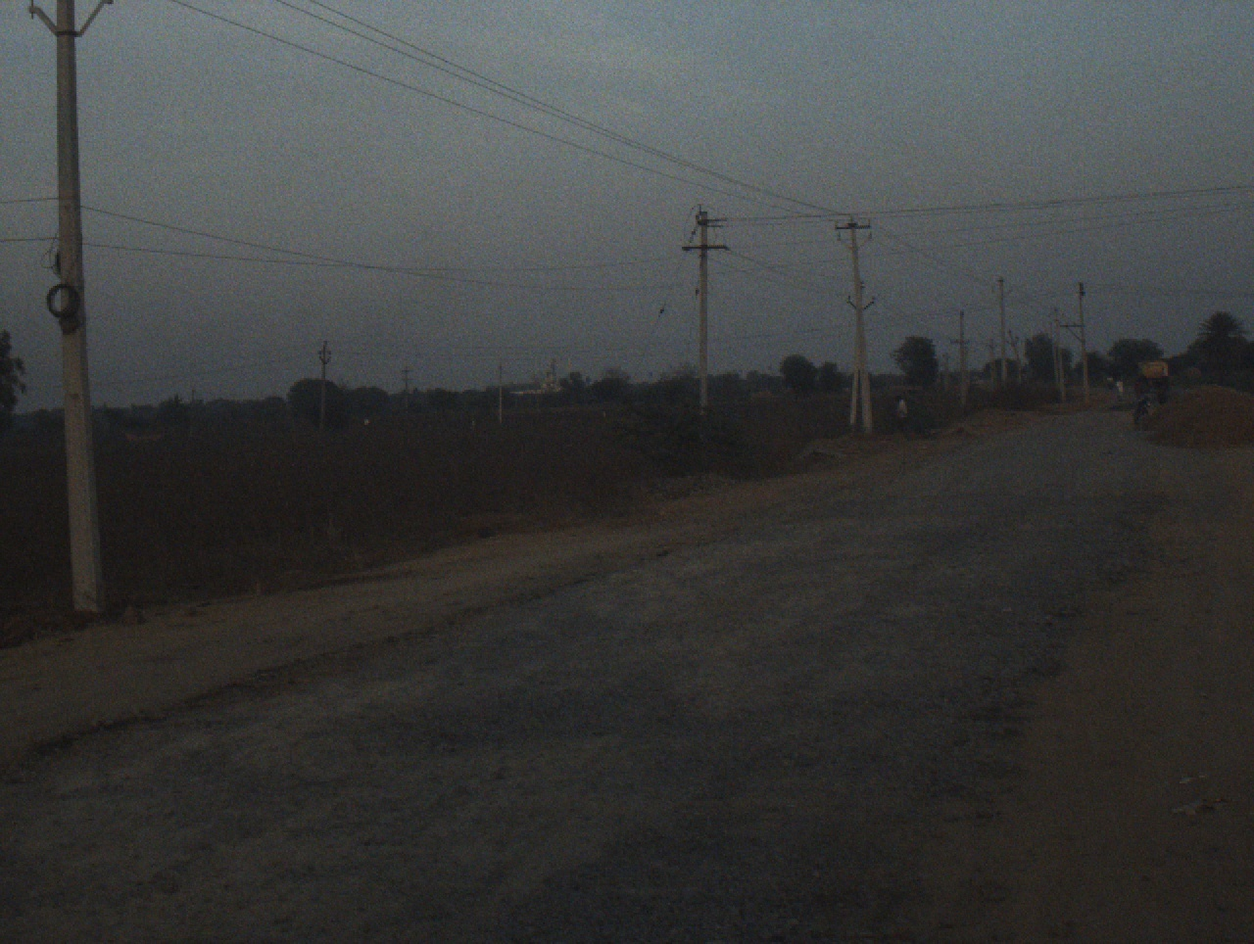motorcycle: (1134, 392, 1148, 424)
person: (891, 392, 912, 427), (1157, 379, 1168, 402)
truck: (1133, 357, 1172, 402)
